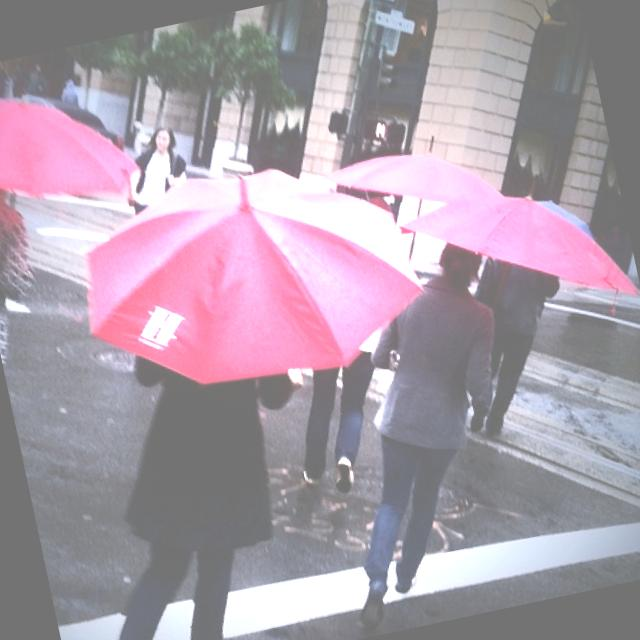Vehicle: (20, 74, 126, 170)
